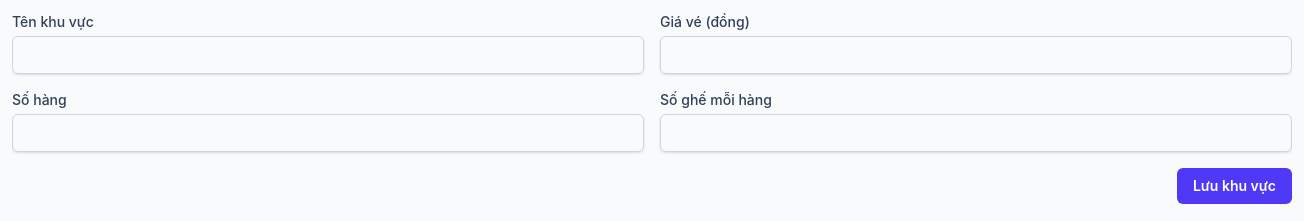
Test: SectionEditor › 10 hàng × 20 ghế → hiện "Sẽ tạo 200 ghế"
The image size is (1304, 221).
Type "10" into the number field labelled "Số hàng" at coordinates (328, 133), box [12,114,644,152]
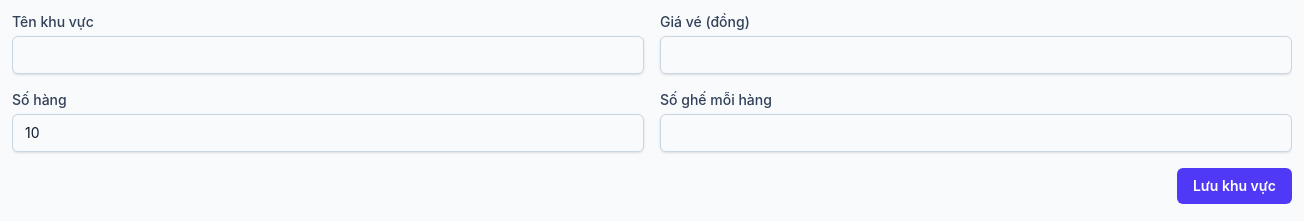
Type "20" into the number field labelled "Số ghế mỗi hàng" at coordinates (976, 133), box [660,114,1292,152]
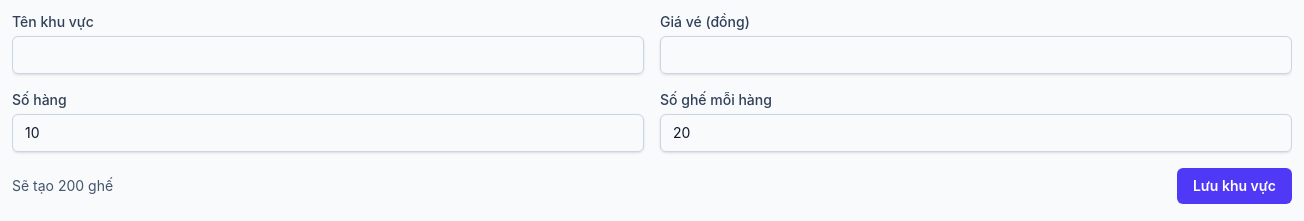
Result: the text "Sẽ tạo 200 ghế" is shown at [12,176,113,196]
